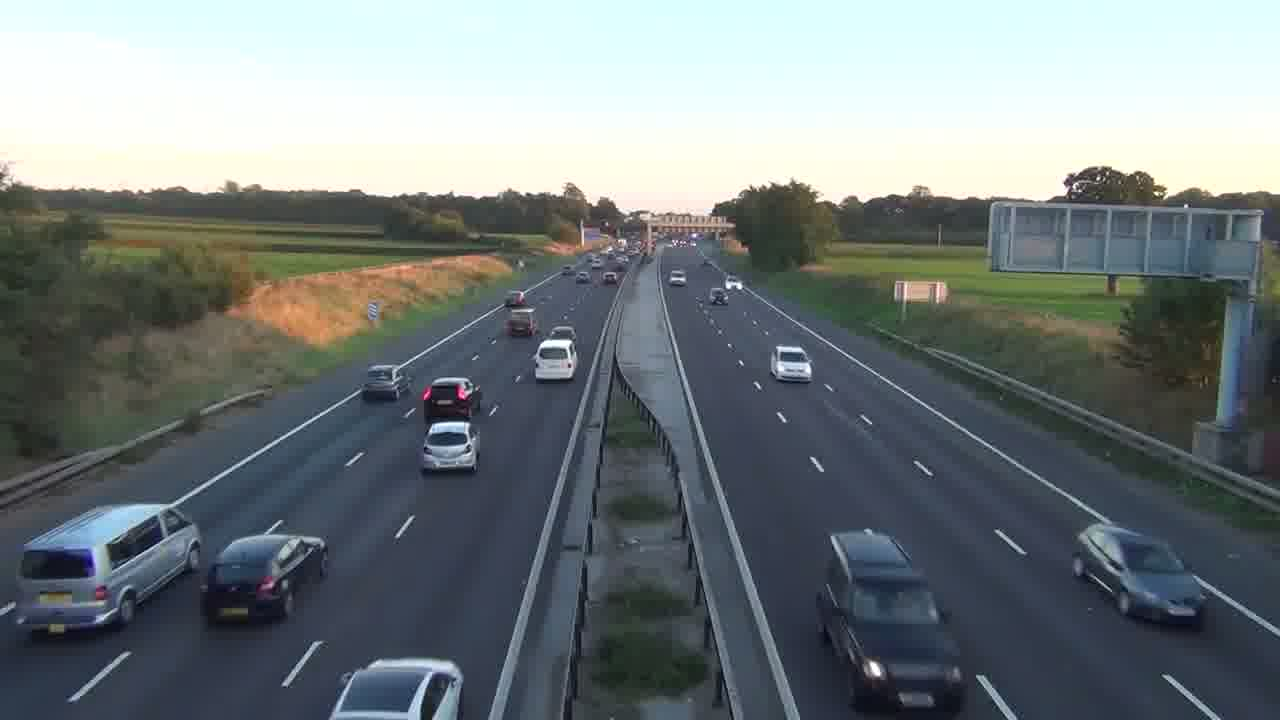car: (1071, 521, 1207, 628), (201, 524, 329, 625), (328, 656, 464, 719), (420, 421, 482, 472), (420, 376, 482, 421), (533, 337, 578, 381), (362, 363, 410, 400), (769, 344, 813, 383), (668, 269, 688, 287)
truck: (814, 527, 966, 712), (14, 500, 202, 638)
